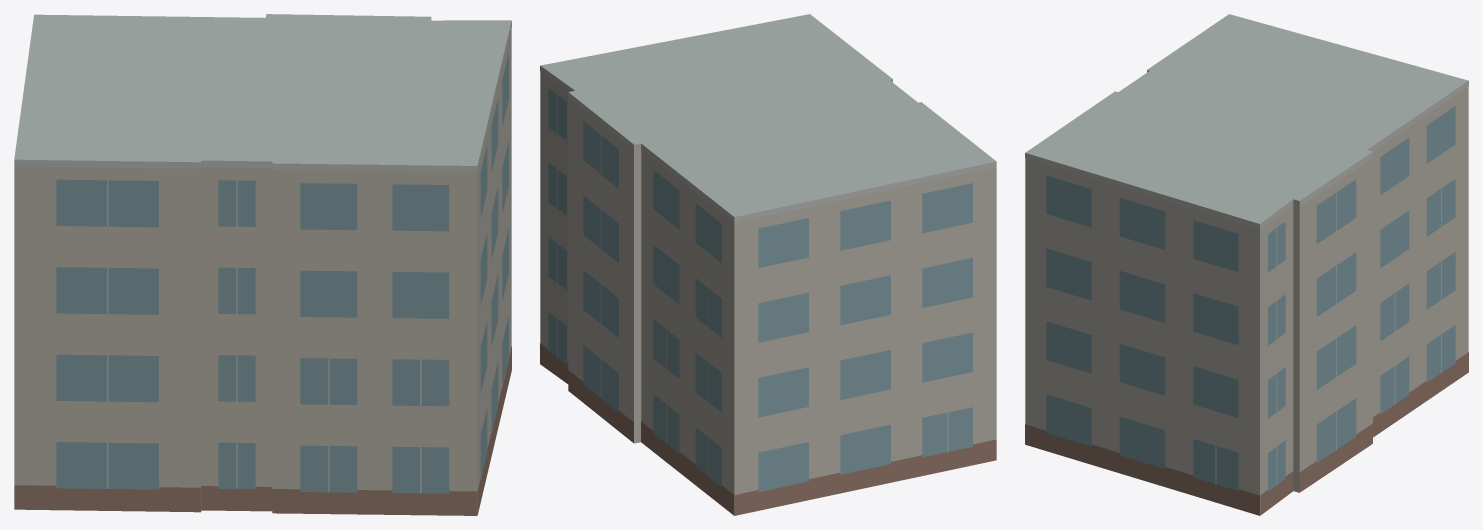
Rendered from survey-upis-33010312.glb.
3 views of the same model, side by side, from view 1: azimuth 30°, elevation 25°; view 2: azimuth 150°, elevation 25°; view 3: azimuth 270°, elevation 25° (orthographic). The views are drawn at different scales.
Parts seen in each view (by area): view 1: survey-upis-33010312.tmp; view 2: survey-upis-33010312.tmp; view 3: survey-upis-33010312.tmp.
Part boxes in pixels (x1=…): survey-upis-33010312.tmp: x1=14, y1=14, x2=511, y2=515; survey-upis-33010312.tmp: x1=540, y1=14, x2=996, y2=515; survey-upis-33010312.tmp: x1=1025, y1=14, x2=1468, y2=515.
Bounding box in the file's own units: 19.77 × 12.8 × 17.64.
